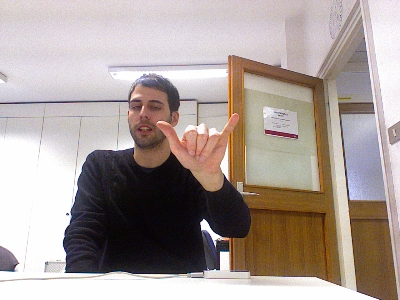六六六: (154, 110, 239, 173)
